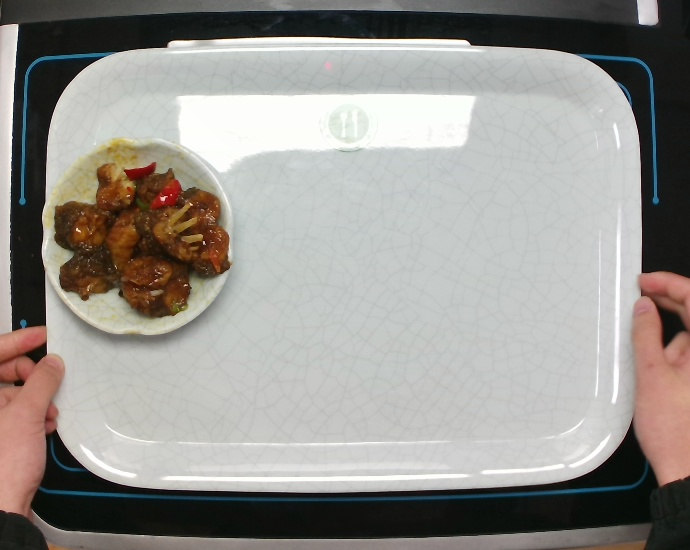JYsf-Ao_Yuan_Wan: (37, 133, 238, 340)
